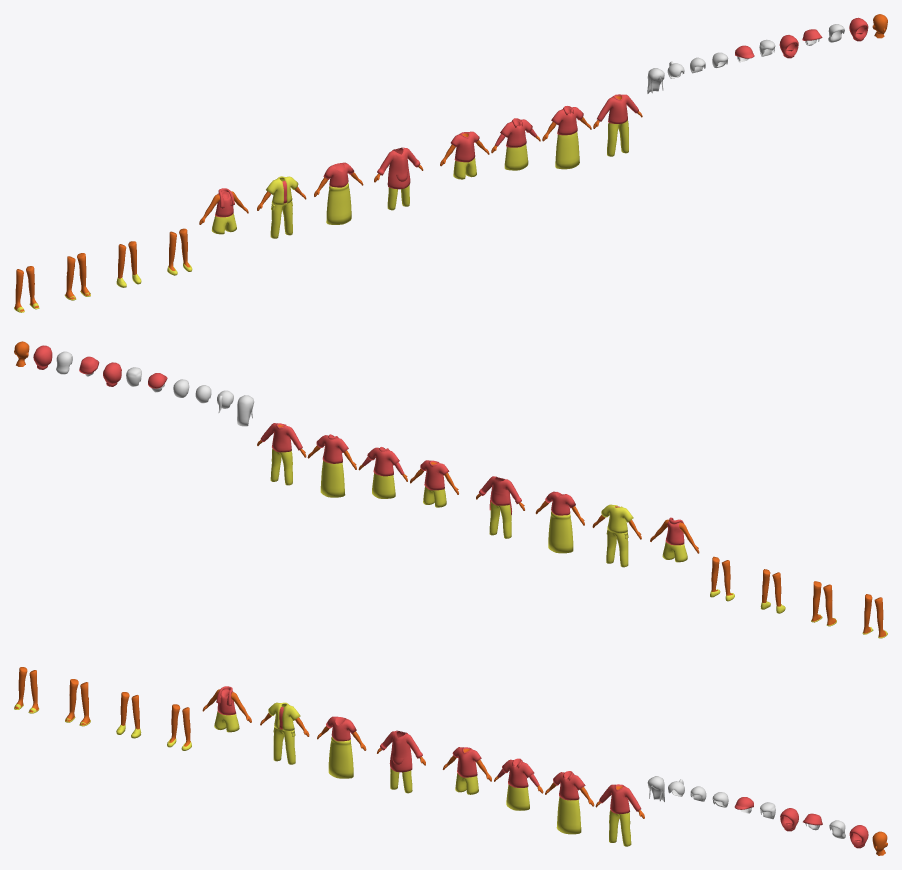
File: NPC_DewasaTest_Texture.fbx
3 views of the same model, one above another, from view 1: azimuth 30°, elevation 25°; view 2: azimuth 150°, elevation 25°; view 3: azimuth 330°, elevation 25° (orthographic).
Parts seen in each view (by area): view 1: BajuLenganPanjangIbuPenjual.003, RokPanjang_Fix.003, BajuLenganPanjang1_Fix.001, BajuLenganPendek_Fix.001, BajuPolo_Panjang_Fix, BajuPolo_Pendek_Fix, RokPanjang_Fix, BasePolosan.025, Plane.004, BajuLenganPendek_Fix.004, CelanaPanjang_Fix.004, SendalJepit2 (+1 smaller); view 2: RokPanjang_Fix.003, BajuLenganPanjangIbuPenjual.003, BajuLenganPanjang1_Fix.001, RokPanjang_Fix, BajuLenganPendek_Fix.001, BajuPolo_Panjang_Fix, BajuPolo_Pendek_Fix, BasePolosan.025, Plane.004, BajuLenganPendek_Fix.004, CelanaPanjang_Fix.004, SendalJepit2 (+2 smaller); view 3: BajuLenganPanjangIbuPenjual.003, RokPanjang_Fix.003, BajuLenganPanjang1_Fix.001, BajuLenganPendek_Fix.001, BajuPolo_Panjang_Fix, RokPanjang_Fix, BajuPolo_Pendek_Fix, BasePolosan.025, Plane.004, BajuLenganPendek_Fix.004, CelanaPanjang_Fix.004, SendalJepit2 (+7 smaller).
Part boxes in pixels (box(x1,y1,x2,y2)): BajuLenganPanjangIbuPenjual.003: box(374, 147, 423, 189); RokPanjang_Fix.003: box(326, 183, 351, 224); BajuLenganPanjang1_Fix.001: box(593, 94, 642, 128); BajuLenganPendek_Fix.001: box(440, 131, 489, 166); BajuPolo_Panjang_Fix: box(491, 118, 540, 153); BajuPolo_Pendek_Fix: box(542, 106, 591, 141); RokPanjang_Fix: box(555, 132, 579, 169); BasePolosan.025: box(257, 176, 306, 210); Plane.004: box(199, 188, 248, 224); BajuLenganPendek_Fix.004: box(314, 162, 363, 196); CelanaPanjang_Fix.004: box(270, 201, 292, 238); SendalJepit2: box(65, 253, 90, 299); RokPanjang_Fix.003: box(548, 511, 573, 553); BajuLenganPanjangIbuPenjual.003: box(476, 476, 524, 514); BajuLenganPanjang1_Fix.001: box(257, 423, 306, 457); RokPanjang_Fix: box(320, 460, 345, 497); BajuLenganPendek_Fix.001: box(410, 460, 458, 494); BajuPolo_Panjang_Fix: box(358, 447, 407, 481); BajuPolo_Pendek_Fix: box(307, 434, 356, 469); BasePolosan.025: box(592, 504, 641, 539); Plane.004: box(650, 517, 699, 553); BajuLenganPendek_Fix.004: box(535, 491, 584, 525); CelanaPanjang_Fix.004: box(606, 529, 628, 567); SendalJepit2: box(811, 581, 836, 625); BajuLenganPanjangIbuPenjual.003: box(377, 730, 425, 772); RokPanjang_Fix.003: box(328, 737, 353, 778); BajuLenganPanjang1_Fix.001: box(595, 784, 644, 818); BajuLenganPendek_Fix.001: box(442, 747, 491, 781); BajuPolo_Panjang_Fix: box(494, 758, 543, 793); RokPanjang_Fix: box(556, 797, 581, 834); BajuPolo_Pendek_Fix: box(545, 771, 594, 806); BasePolosan.025: box(260, 702, 309, 736); Plane.004: box(202, 686, 251, 722); BajuLenganPendek_Fix.004: box(317, 716, 366, 750); CelanaPanjang_Fix.004: box(273, 727, 295, 764); SendalJepit2: box(65, 679, 90, 725).
Size of the model in its own units: 2658 by 251 by 72.53.
